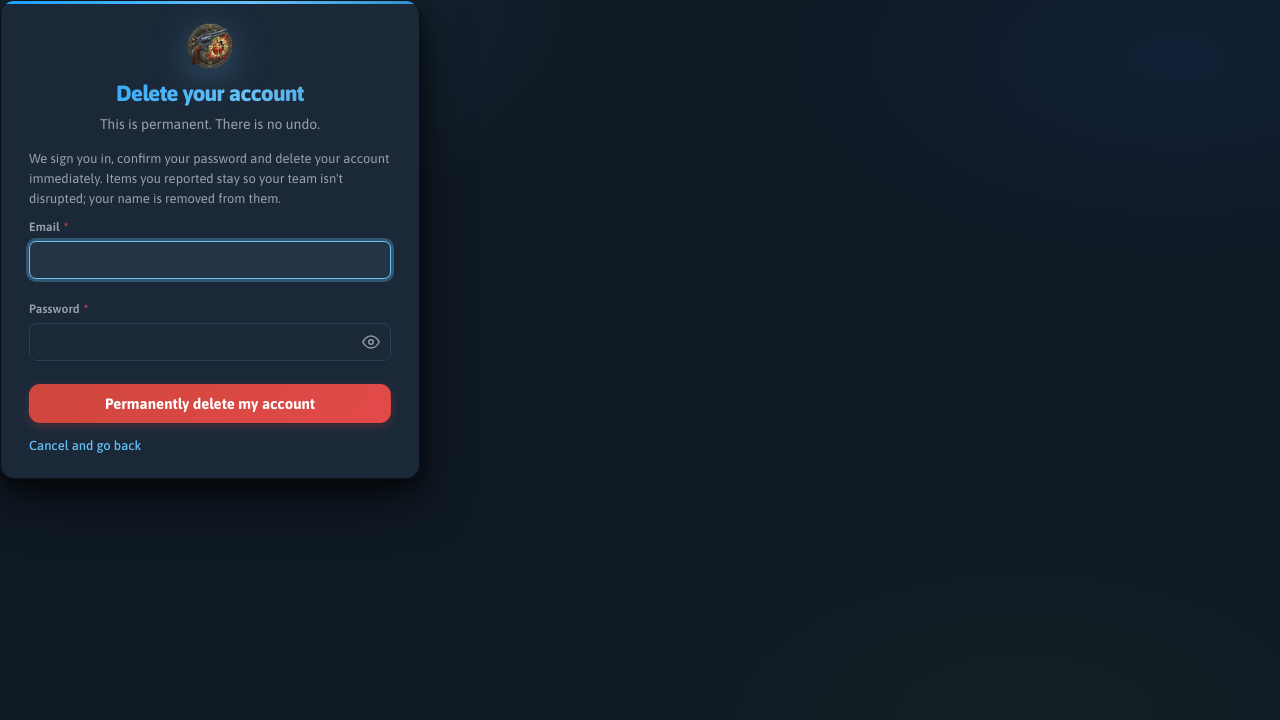
DeleteAccountPage › does not delete when sign-in fails
The image size is (1280, 720).
Type "alex@acme.test" into the field labelled "Email *" at (210, 260), box [29, 241, 391, 279]
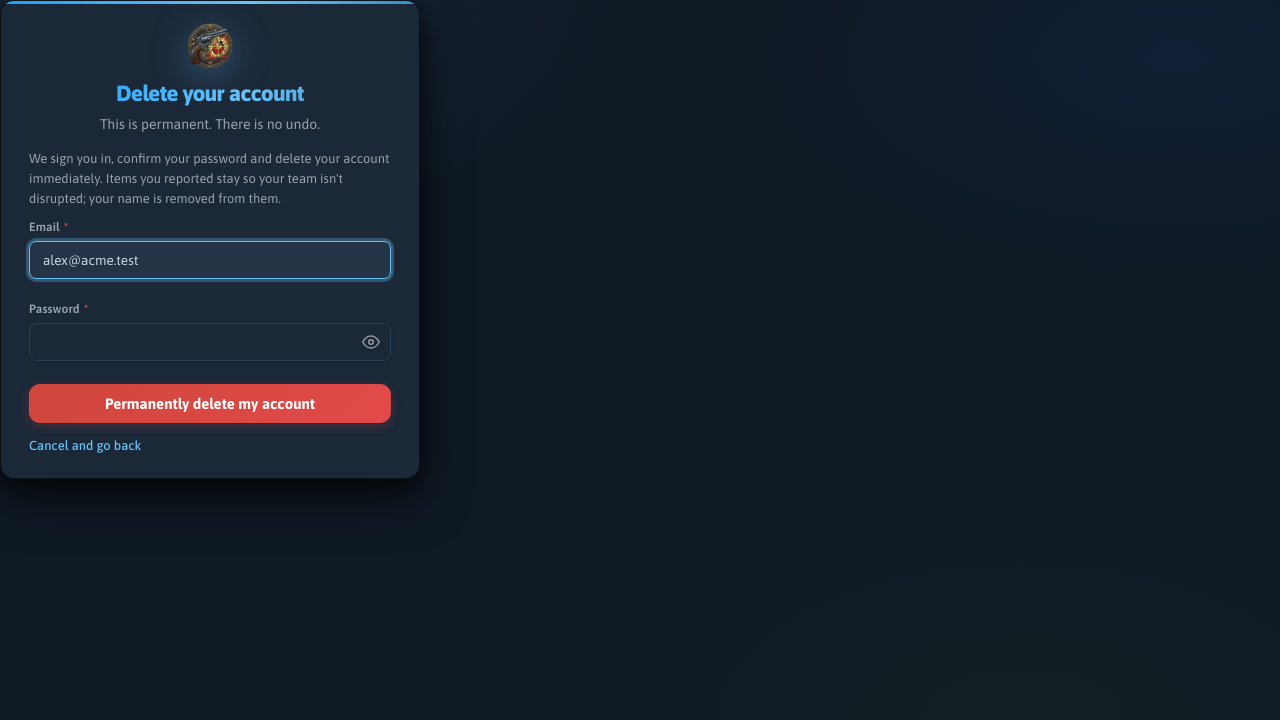
Type "wrong-password" into the password field labelled "Password *" at (210, 342), box [29, 323, 391, 361]
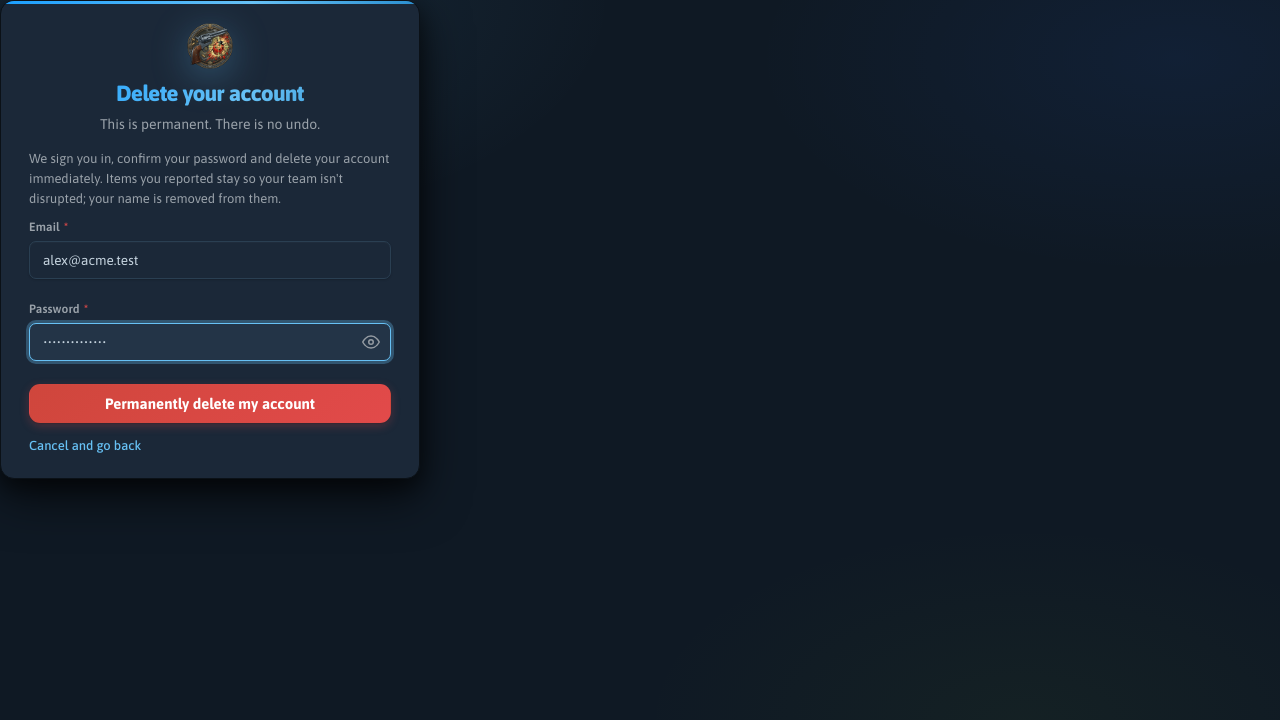
Click the button "Permanently delete my account" at (210, 404), box [29, 384, 391, 423]
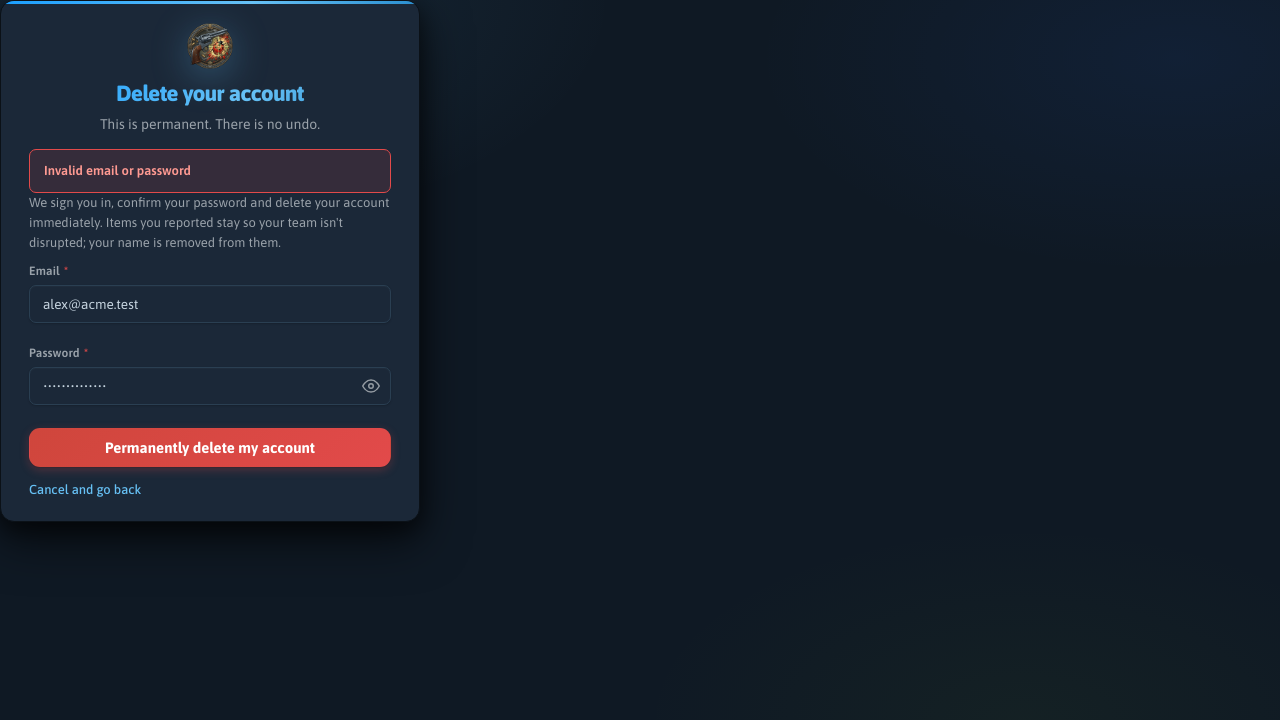
Check: the text "Invalid email or password" is shown, box [29, 149, 391, 192]
